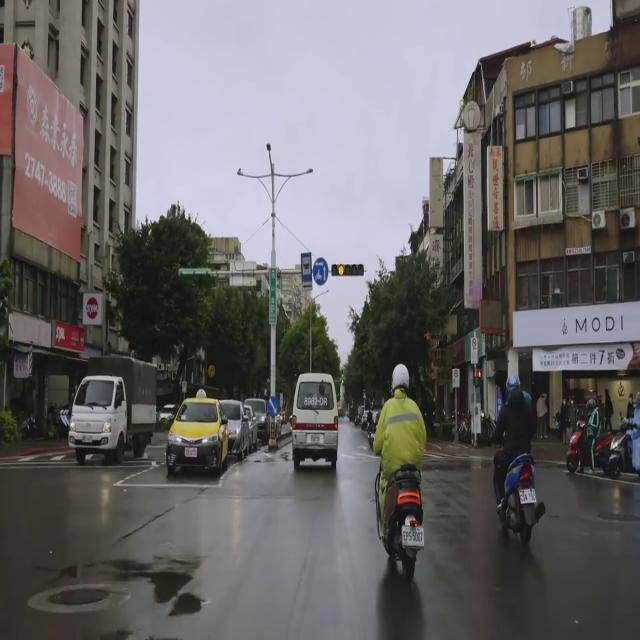yellow light: (331, 264, 364, 276)
